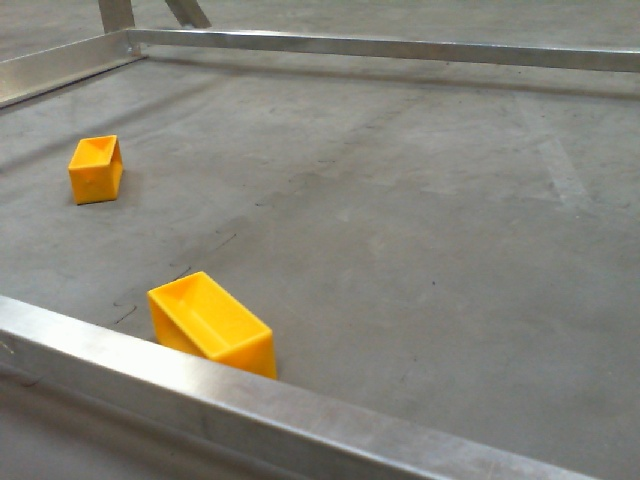YellowSample: (142, 270, 279, 389), (67, 131, 125, 206)
